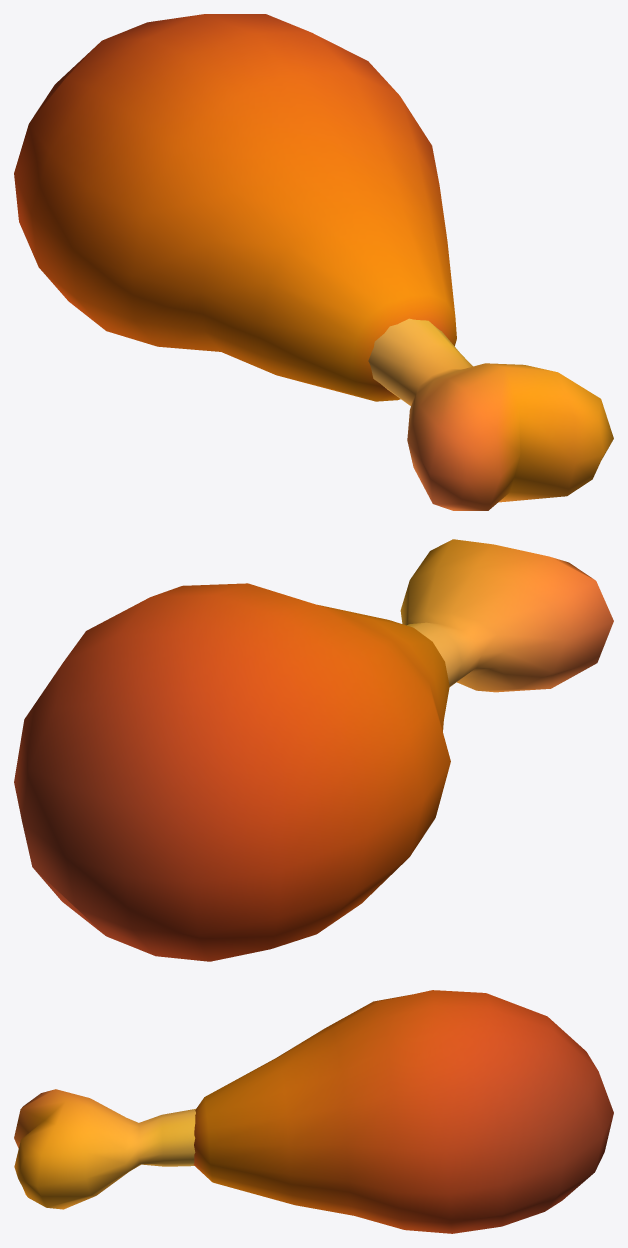
The model's file is chicken_002.fbx.
3 views of the same model, one above another, from view 1: azimuth 30°, elevation 25°; view 2: azimuth 150°, elevation 25°; view 3: azimuth 270°, elevation 25° (orthographic). The views are drawn at different scales.
Parts seen in each view (by area): view 1: chicken_002; view 2: chicken_002; view 3: chicken_002.
Part boxes in pixels (box(x1,y1,x2,y2)): chicken_002: box(14, 14, 613, 510); chicken_002: box(14, 539, 613, 961); chicken_002: box(14, 990, 613, 1233).
Size of the model in its own units: 8.74 by 18.11 by 6.87.
